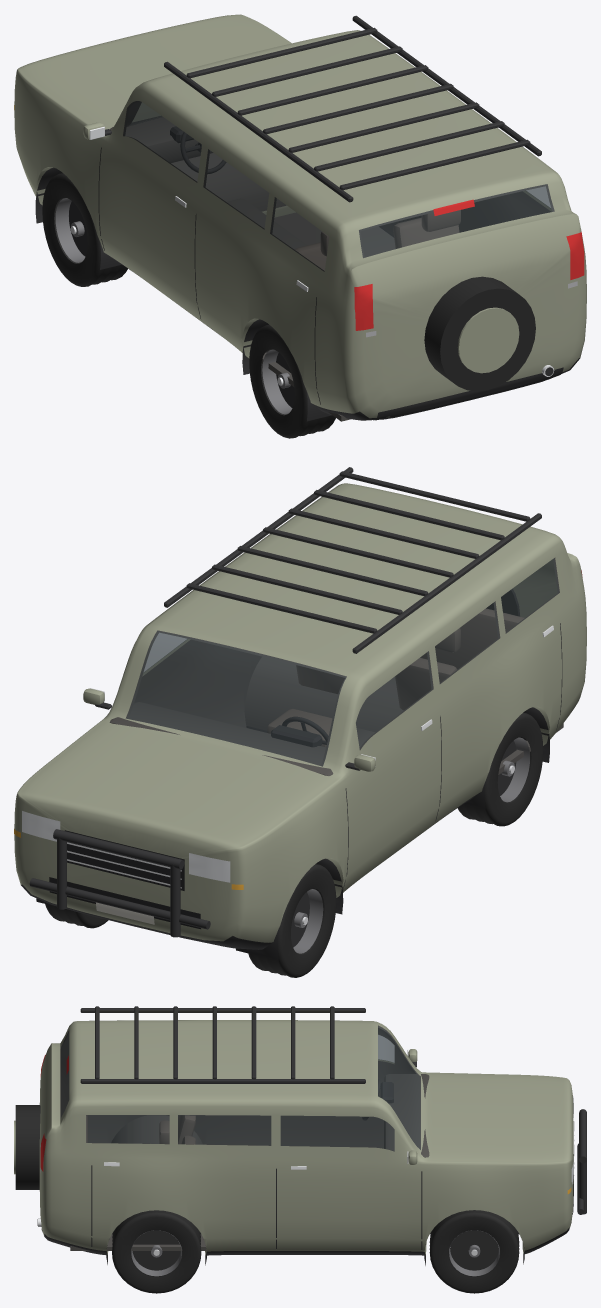
The model's file is trailhound.glb.
3 views of the same model, one above another, from view 1: azimuth 30°, elevation 25°; view 2: azimuth 150°, elevation 25°; view 3: azimuth 270°, elevation 25° (orthographic). The views are drawn at different scales.
Visible parts, largest first — view 1: Body, Glass, Interior, Wheel_FL, Wheel_RL, Lights_Tail; view 2: Body, Glass, Interior, Wheel_FL, Wheel_RL, Lights_Head, Wheel_FR; view 3: Body, Interior, Glass, Wheel_FR, Wheel_RR.
Boxes of the visible parts, left/top/right/bottom form: Body: left=14, top=14, right=586, bottom=421; Glass: left=123, top=101, right=554, bottom=271; Interior: left=109, top=101, right=554, bottom=421; Wheel_FL: left=42, top=173, right=127, bottom=286; Wheel_RL: left=249, top=324, right=335, bottom=438; Lights_Tail: left=354, top=232, right=584, bottom=330; Body: left=14, top=467, right=586, bottom=960; Glass: left=126, top=558, right=559, bottom=766; Interior: left=109, top=557, right=563, bottom=775; Wheel_FL: left=248, top=864, right=336, bottom=977; Wheel_RL: left=457, top=712, right=543, bottom=826; Lights_Head: left=22, top=811, right=230, bottom=882; Wheel_FR: left=45, top=904, right=108, bottom=928; Body: left=14, top=1006, right=586, bottom=1265; Interior: left=60, top=1025, right=429, bottom=1250; Glass: left=61, top=1026, right=420, bottom=1151; Wheel_FR: left=429, top=1210, right=519, bottom=1293; Wheel_RR: left=112, top=1210, right=201, bottom=1293.
Size of the model in its own units: 2.3 by 2.06 by 5.12.
